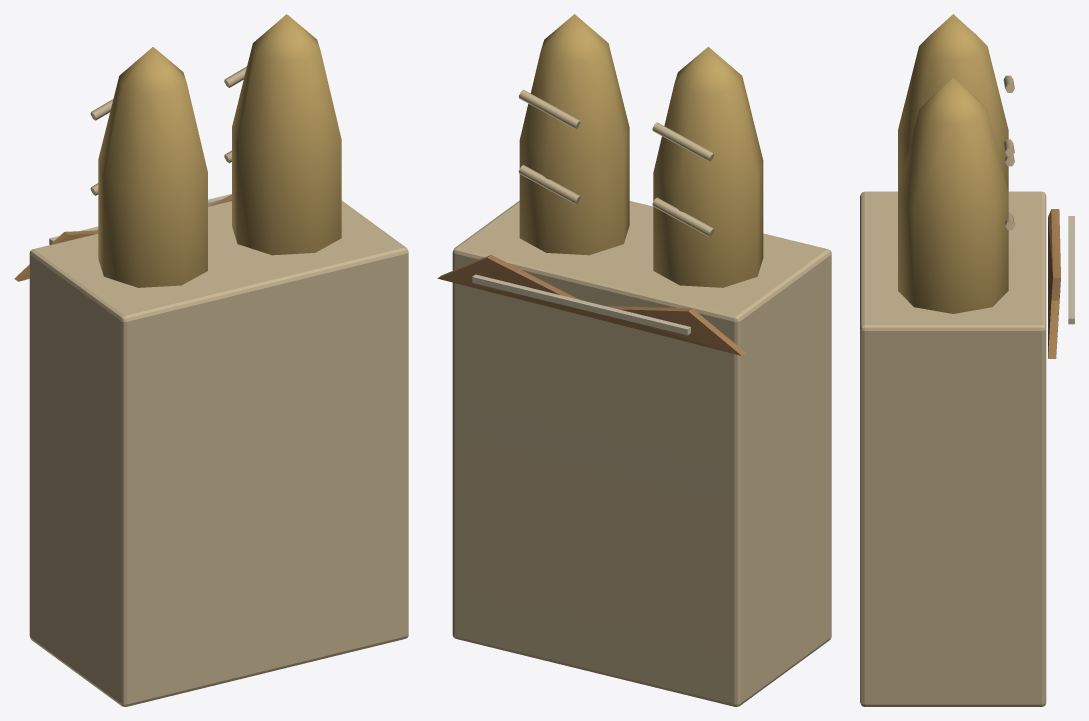
Rendered from bread.glb.
The picture shows the model from 3 angles, left to right: view 1: azimuth 30°, elevation 25°; view 2: azimuth 150°, elevation 25°; view 3: azimuth 270°, elevation 25°; orthographic projection. The views are drawn at different scales.
Bounding box in the file's own units: 0.212 × 0.405 × 0.1325.
